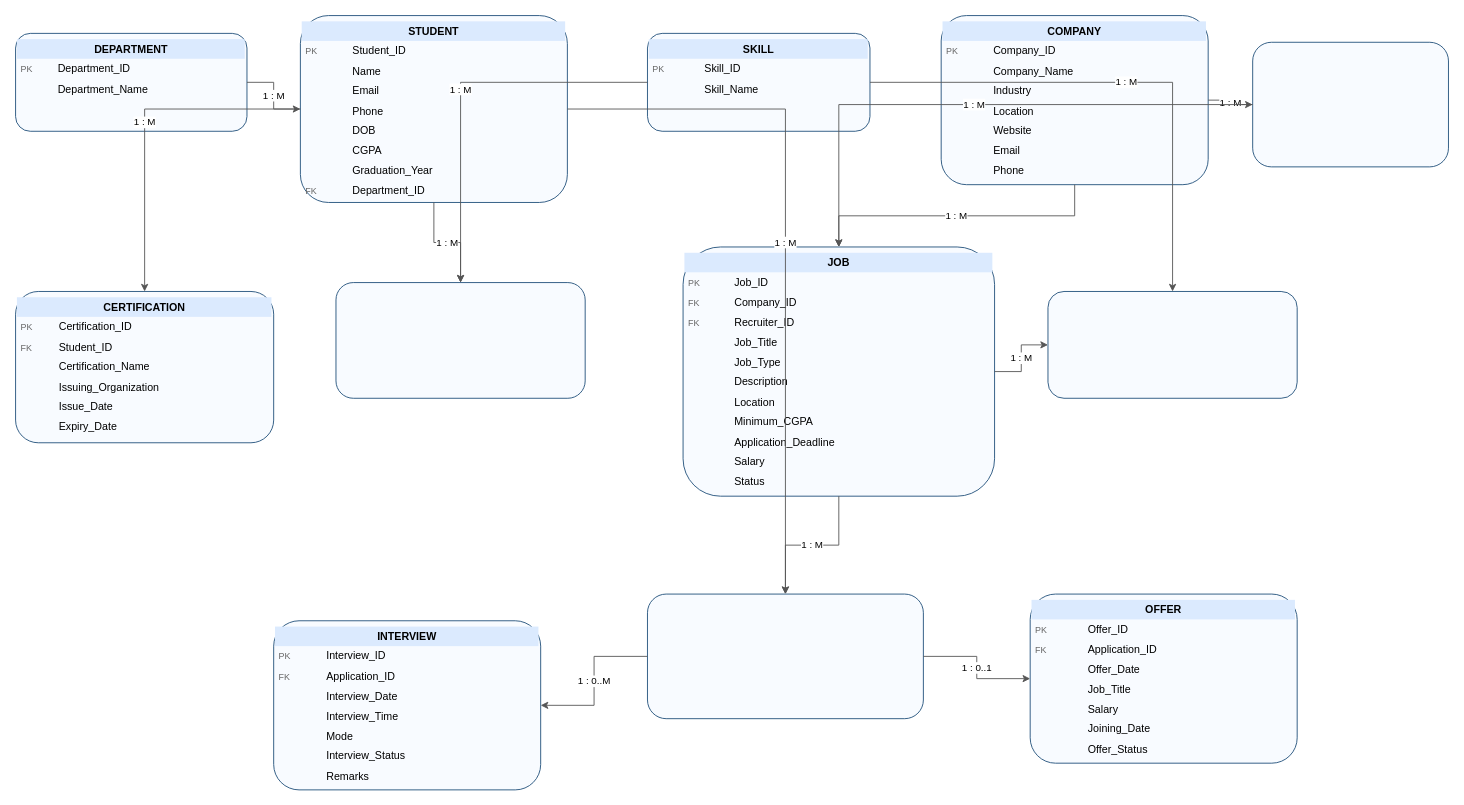
Some shapes in this 1464 by 805 pixel diagram are drawn without their labels. The centre of each missing label's shape, as x and y in pixels:
APPLICATION PK Application_ID FK Student_ID FK Job_ID Application_Date Status: the point at 785,656
JOB_SKILL PK,FK Job_ID PK,FK Skill_ID: the point at 1172,344
RECRUITER PK Recruiter_ID FK Company_ID Recruiter_Name Email Phone: the point at 1350,104
STUDENT_SKILL PK,FK Student_ID PK,FK Skill_ID Proficiency: the point at 460,340
